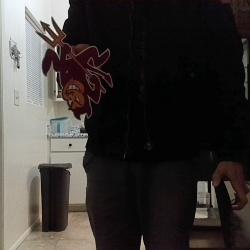sparky: (34, 16, 113, 121)
